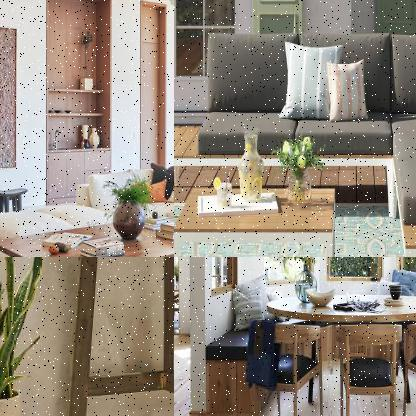table: (57, 257, 173, 415), (264, 290, 415, 406), (174, 183, 342, 256), (0, 212, 173, 256)
